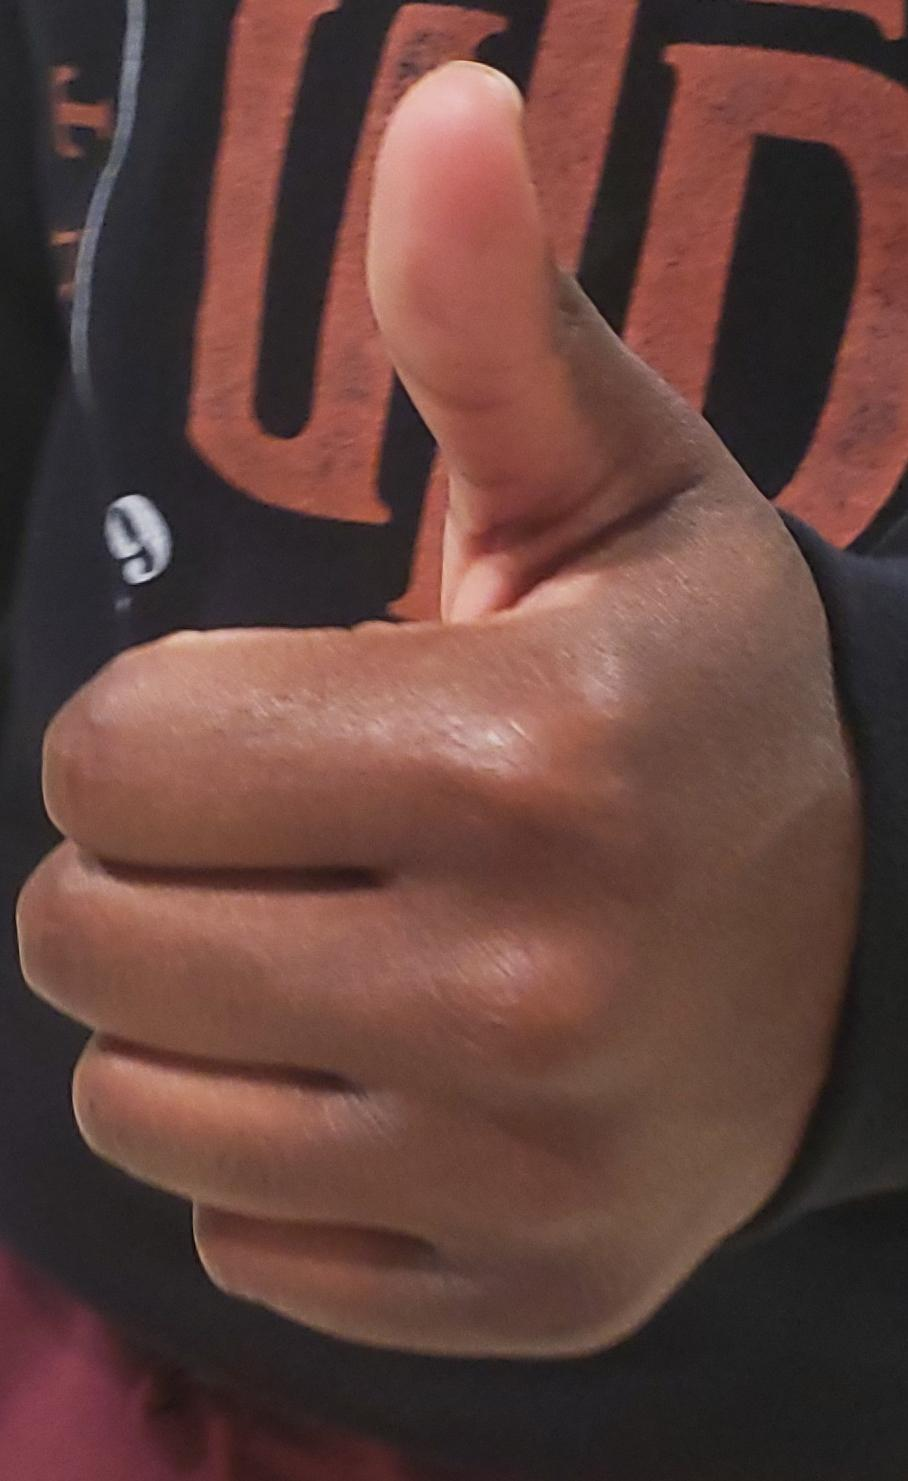up: (0, 1, 908, 1481)
